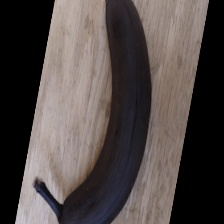banana: (44, 26, 200, 194)
